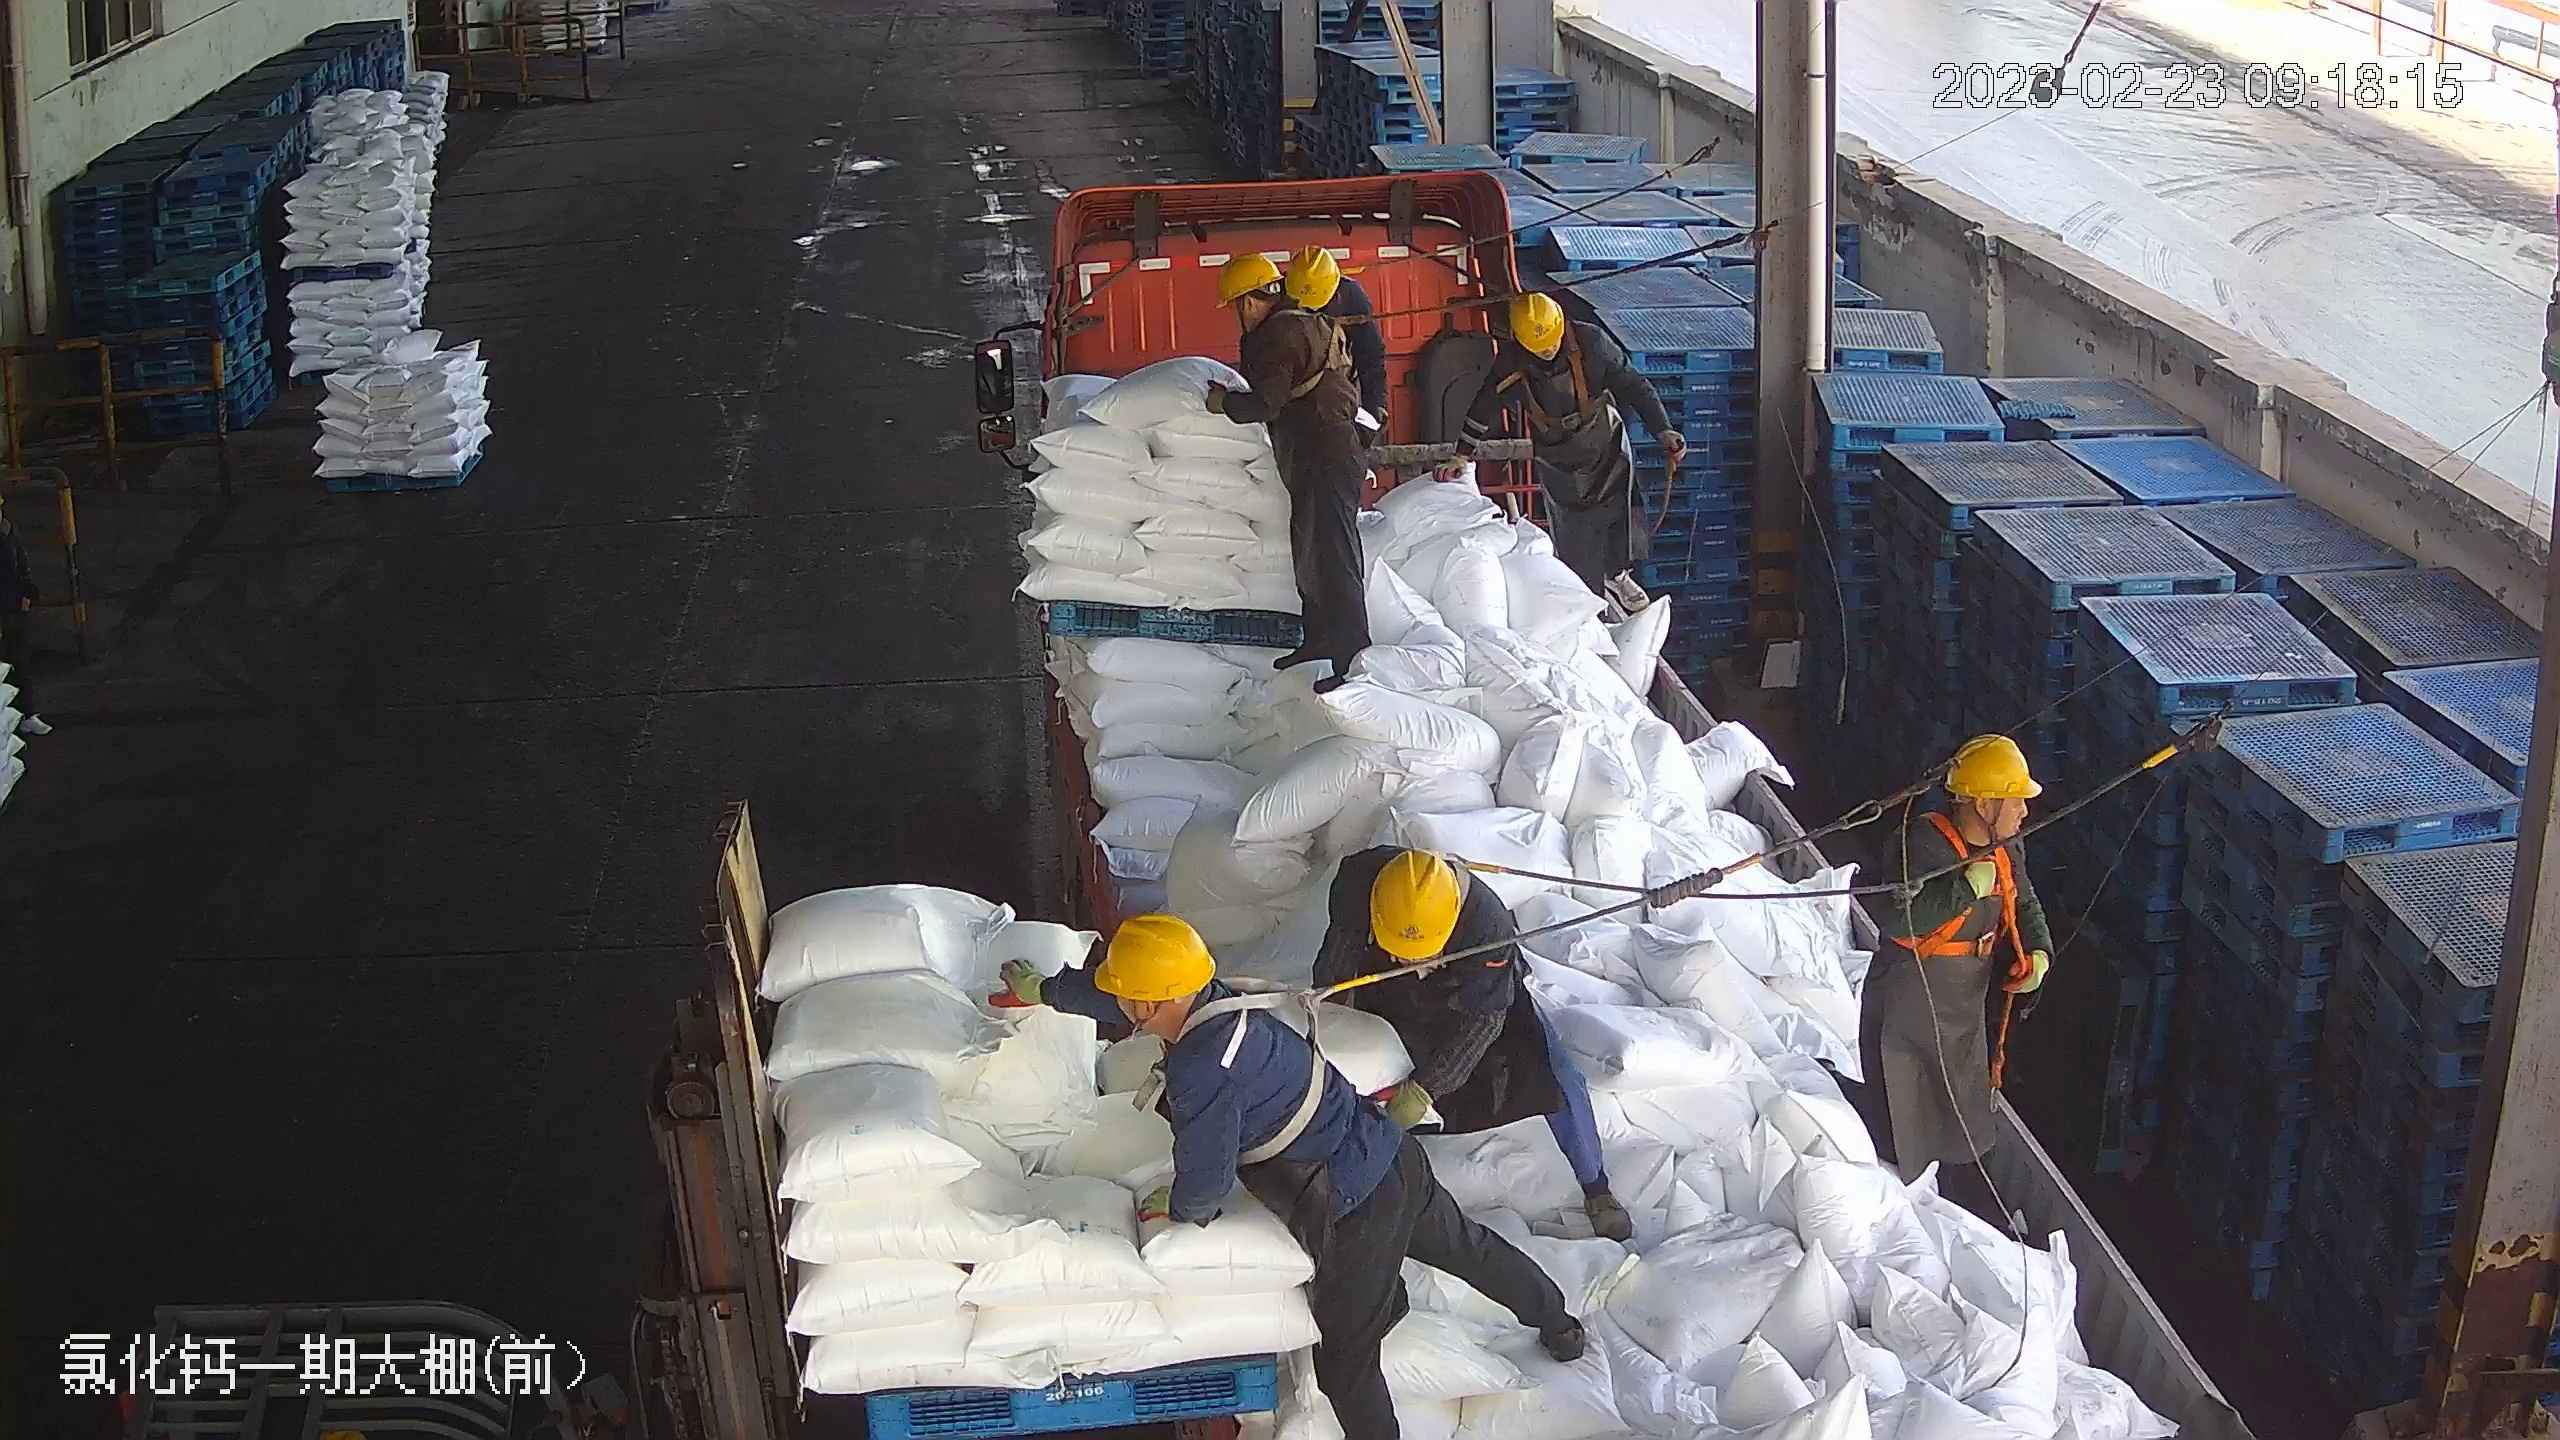belt: (1186, 986, 1387, 1162), (1914, 836, 2032, 980), (1270, 313, 1370, 415), (1513, 363, 1605, 442), (1334, 259, 1372, 282)
head: (1085, 910, 1280, 1105), (1895, 735, 2047, 893), (1342, 847, 1514, 983), (1215, 254, 1324, 371), (1499, 291, 1605, 389)
helmet: (1087, 909, 1217, 999), (1367, 849, 1466, 956), (1943, 729, 2040, 799), (1503, 287, 1567, 353), (1284, 246, 1347, 307), (1213, 250, 1280, 304)
people: (998, 906, 1601, 1440), (1315, 844, 1621, 1245), (1864, 732, 2052, 1245), (1448, 285, 1686, 627), (1203, 255, 1381, 694)
truck: (973, 163, 2252, 1436)
